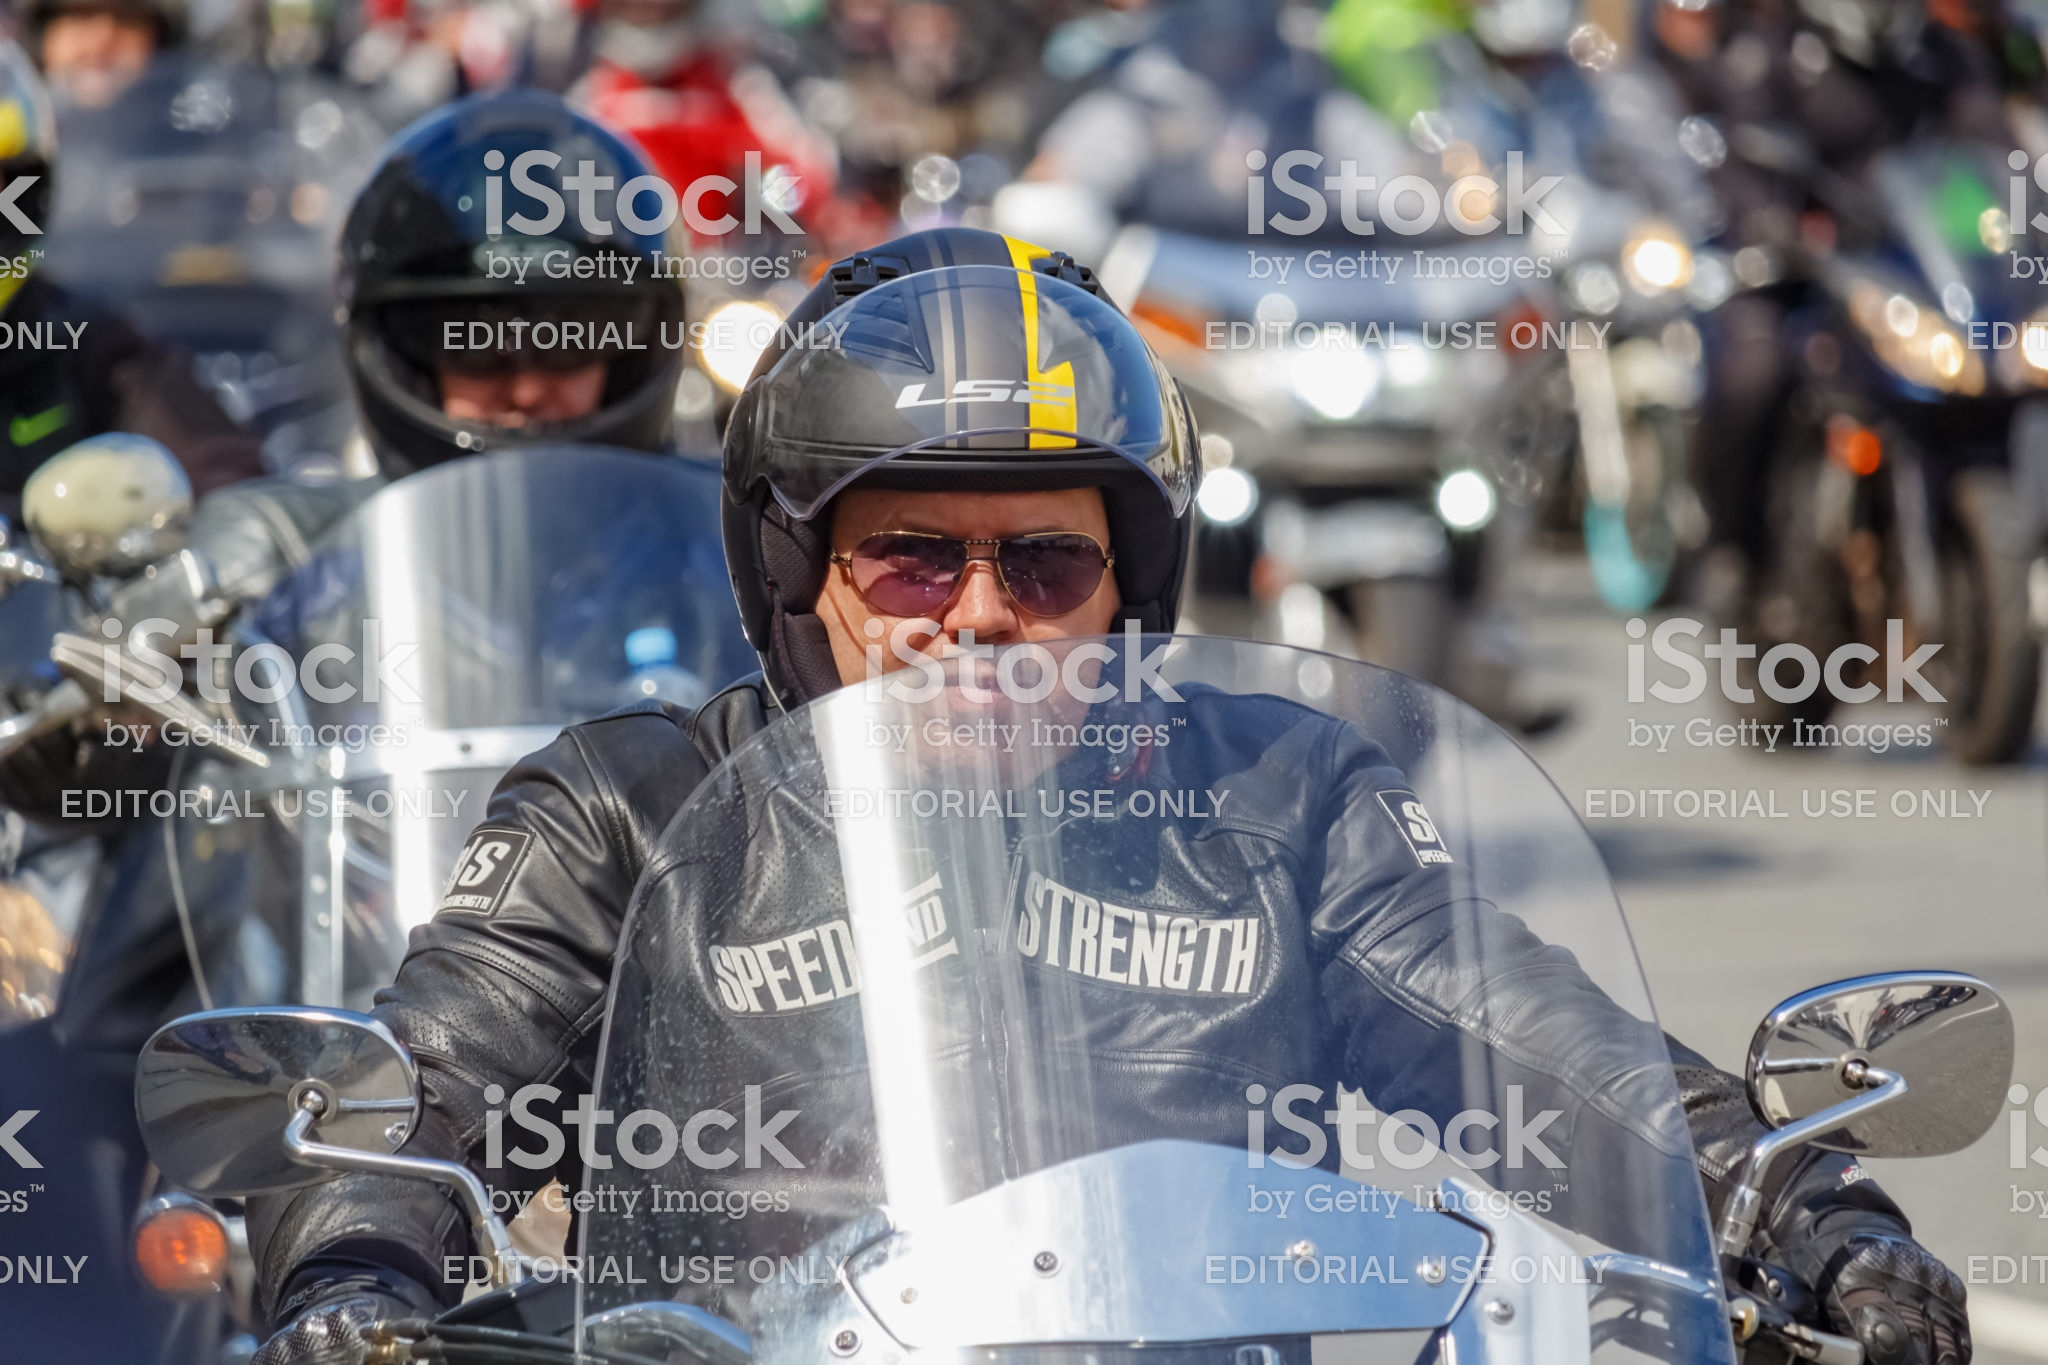helmet: (710, 212, 1215, 725), (306, 114, 717, 487)
